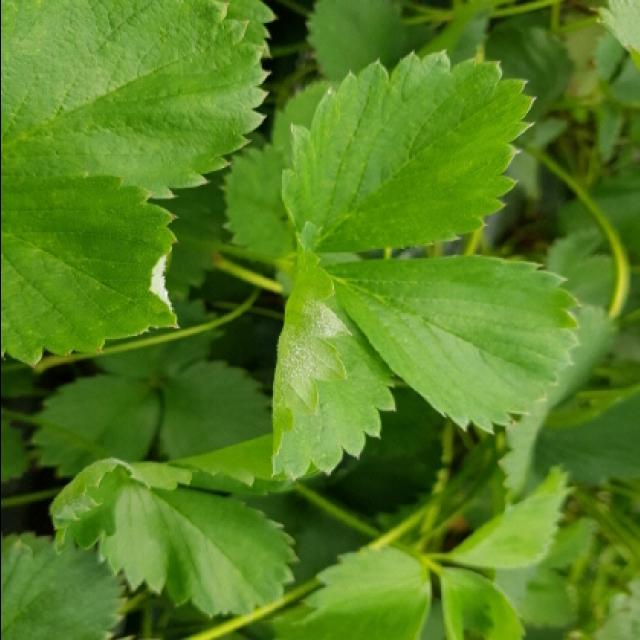Powdery Mildew Leaf: (269, 218, 411, 483), (2, 174, 180, 368), (47, 457, 192, 558)
